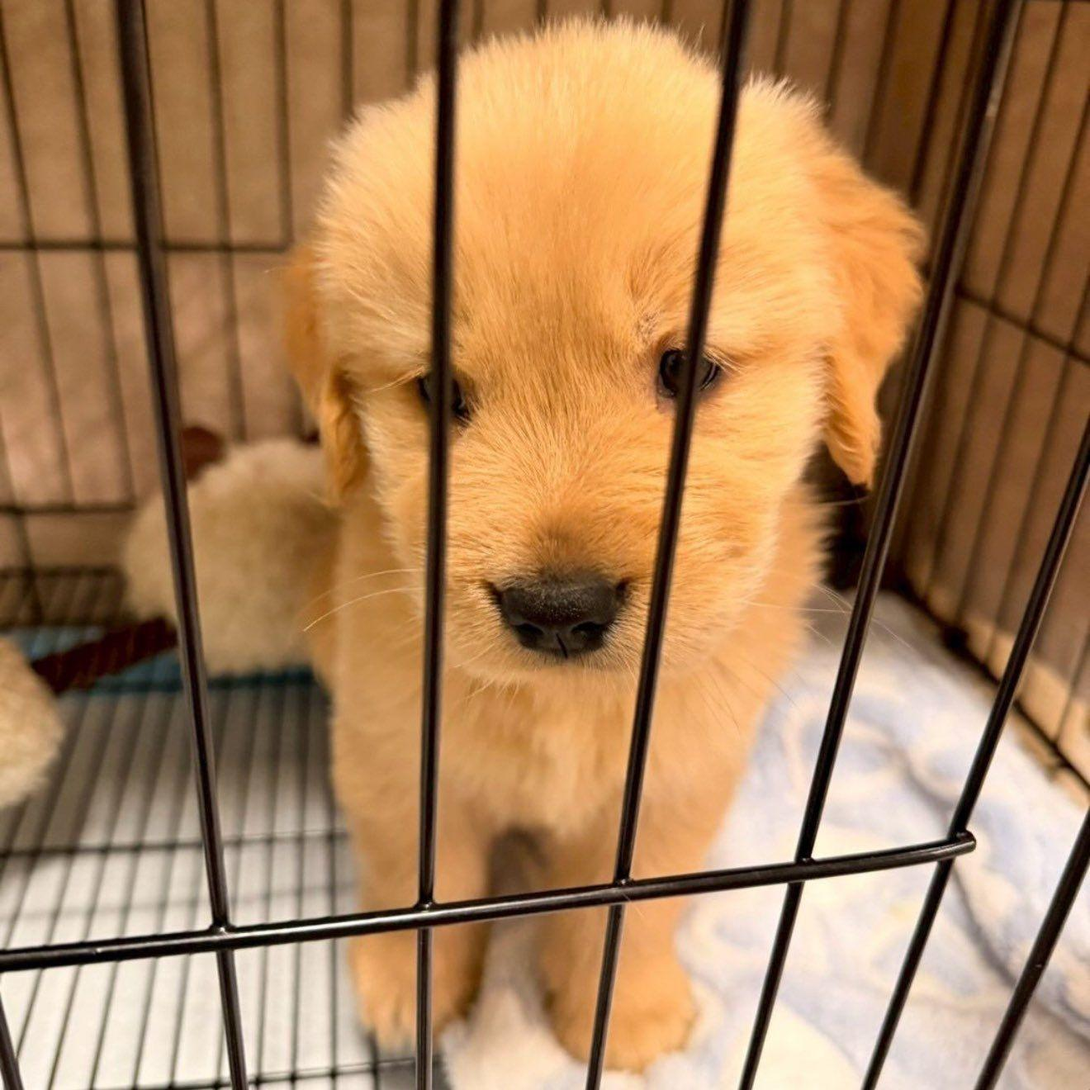puppy-dog: (278, 15, 928, 1075)
